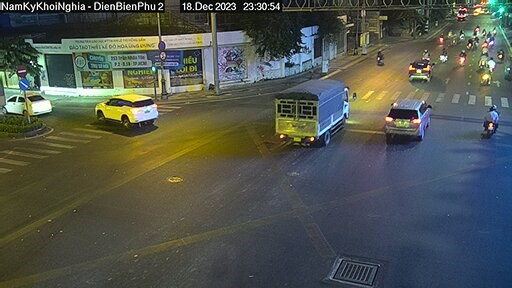car: (83, 90, 158, 133), (383, 92, 438, 138), (5, 83, 51, 117), (406, 56, 434, 85)
motorbike: (483, 108, 499, 134), (372, 47, 385, 67)
truck: (276, 64, 351, 148)
